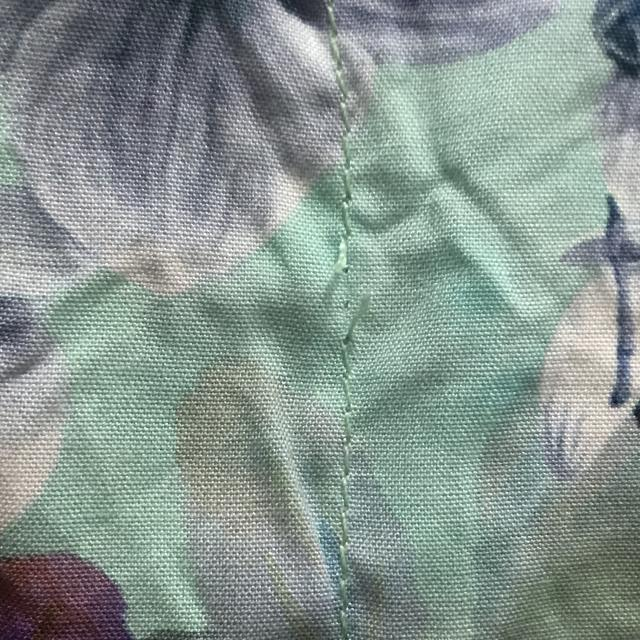broken: (316, 214, 388, 377)
good: (332, 410, 364, 564)
